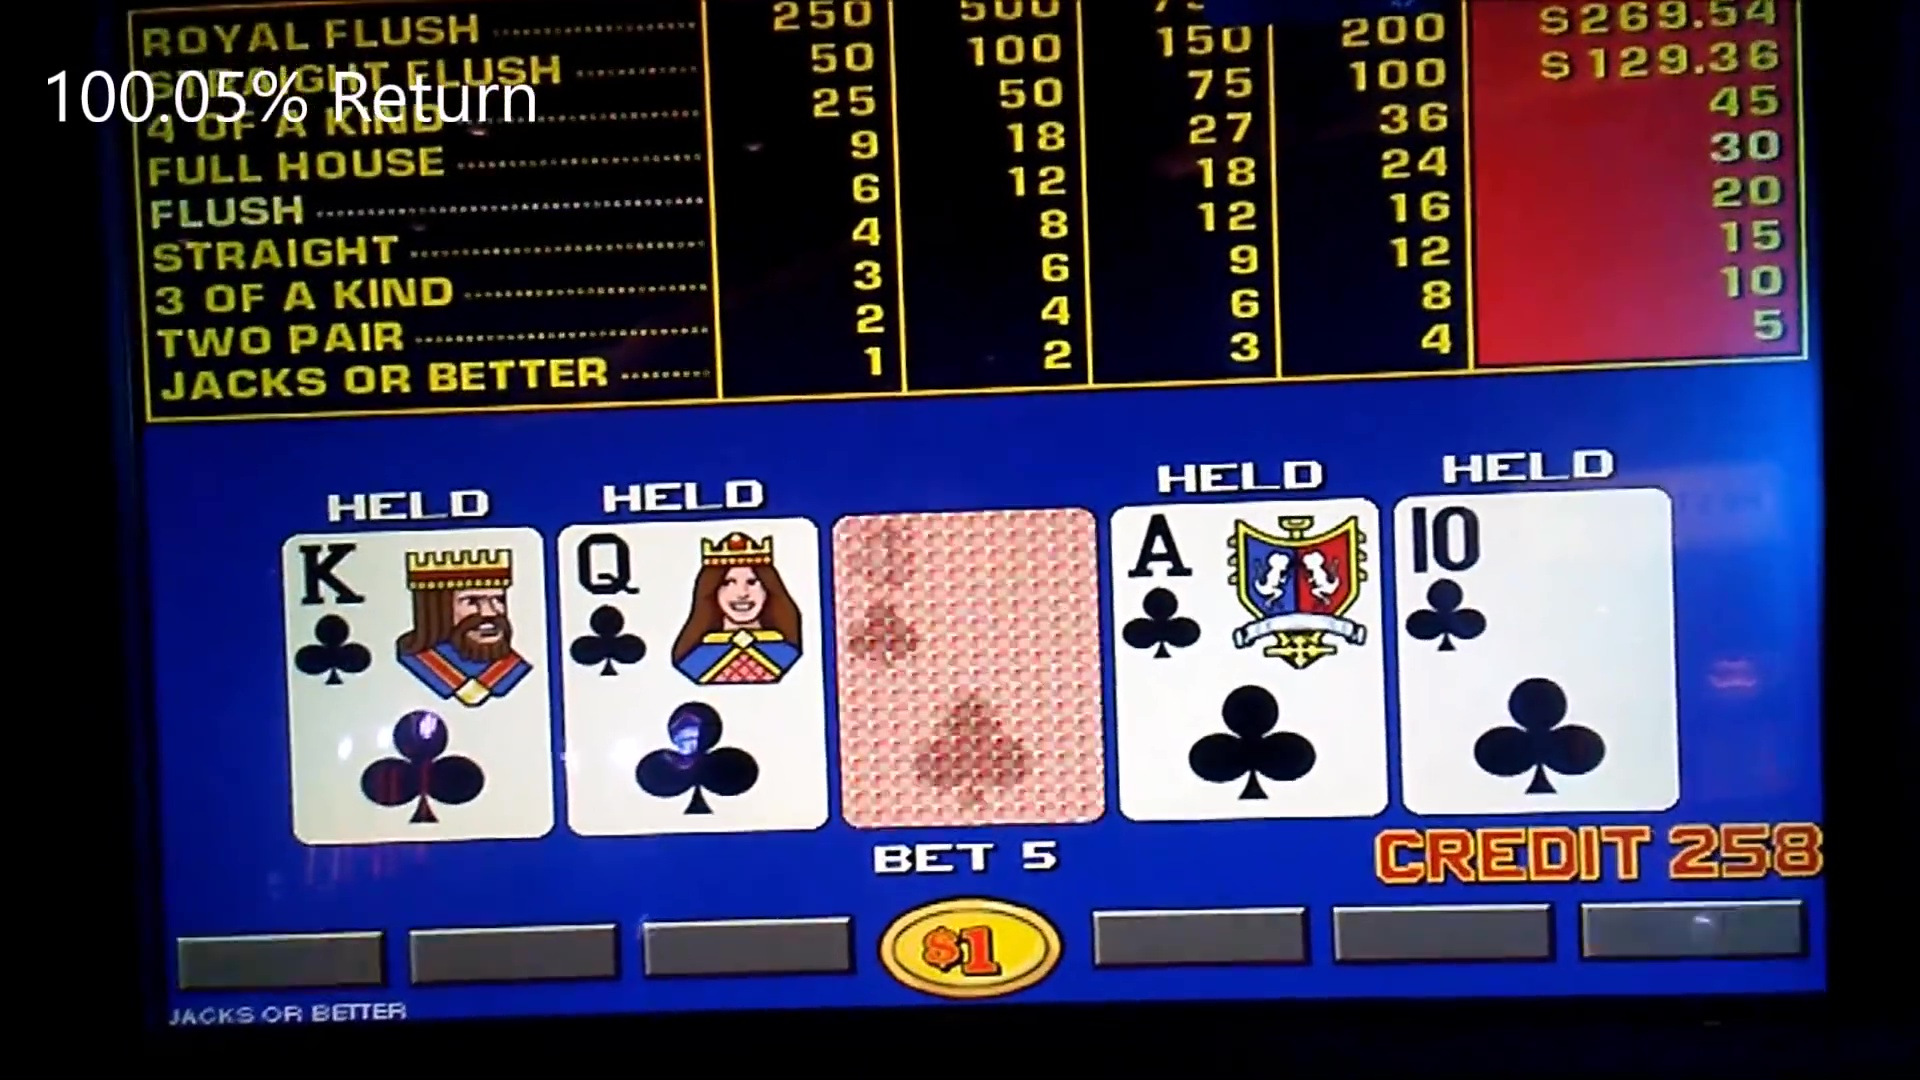AC: (1121, 500, 1377, 678)
KC: (286, 535, 541, 696)
QC: (563, 520, 811, 692)
TC: (1398, 491, 1672, 674)
